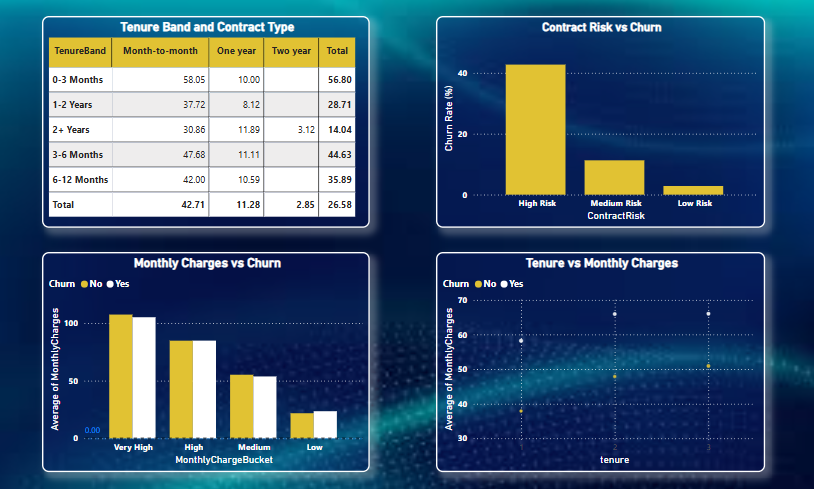

What the dashboard file says about the page in this screenshot:
{"tool":"powerbi","page":{"name":"Page 2","canvas":[1200,720],"ordinal":1},"visuals":[{"type":"pivotTable","title":"Tenure Band and Contract Type","fields":{"Rows":["telecom_churn_final.TenureBand"],"Columns":["telecom_churn_final.Contract"],"Values":["telecom_churn_final.Churn Rate (%)"]},"box":[67.7,31.7,472.3,305.3],"z":0},{"type":"clusteredColumnChart","title":"Contract Risk vs Churn","fields":{"Category":["telecom_churn_final.ContractRisk"],"Y":["telecom_churn_final.Churn Rate (%)"]},"box":[635,31.7,473.8,305.3],"z":1000},{"type":"scatterChart","title":"Tenure vs Monthly Charges","fields":{"X":["telecom_churn_final.tenure"],"Y":["Avg(telecom_churn_final.MonthlyCharges)"],"Series":["telecom_churn_final.Churn"],"Size":["Sum(telecom_churn_final.TotalCharges)"]},"box":[635,371.5,473.8,316.8],"z":2000},{"type":"clusteredColumnChart","title":"Monthly Charges vs Churn","fields":{"Category":["telecom_churn_final.MonthlyChargeBucket"],"Y":["Avg(telecom_churn_final.MonthlyCharges)"],"Series":["telecom_churn_final.Churn"]},"box":[67.7,371.5,472.3,316.8],"z":3000}]}

Visuals, with their boxes in screenshot pixels (x1, y1, x2, y2), scaled from the page's 1200x720 canvas onto the 814x489 screenshot:
"Tenure Band and Contract Type" pivotTable: rect(46, 22, 366, 229)
"Contract Risk vs Churn" clusteredColumnChart: rect(431, 22, 752, 229)
"Tenure vs Monthly Charges" scatterChart: rect(431, 252, 752, 467)
"Monthly Charges vs Churn" clusteredColumnChart: rect(46, 252, 366, 467)
